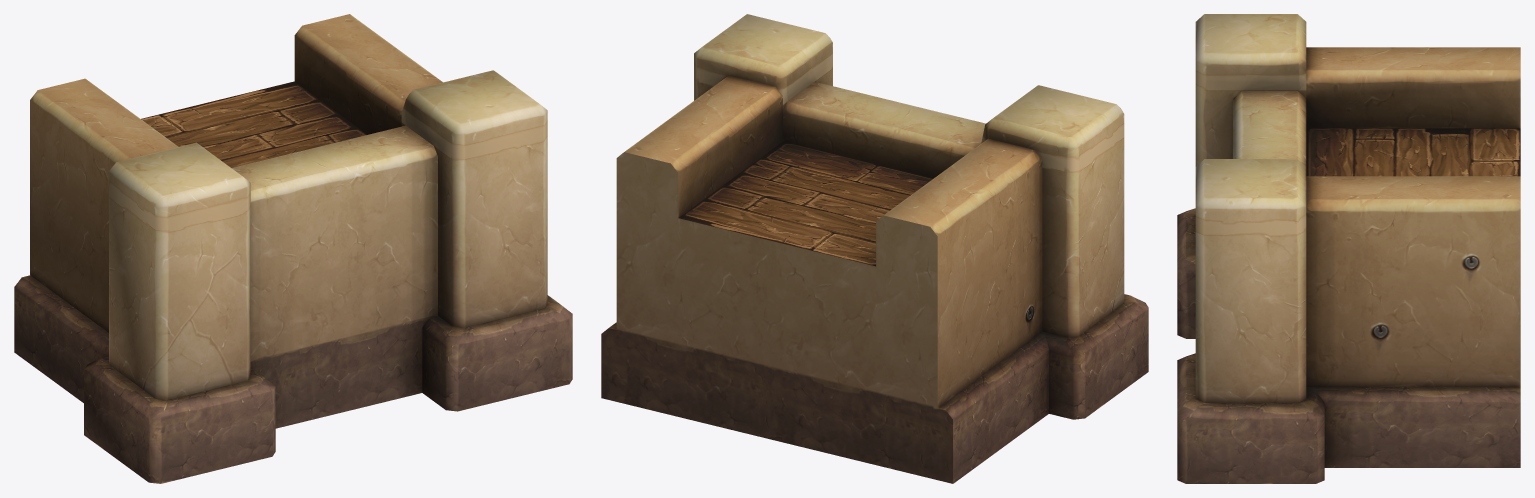
The model's file is DE_House_Mod_Part_07.fbx.
3 renders of one model, left to right at view 1: azimuth 30°, elevation 25°; view 2: azimuth 150°, elevation 25°; view 3: azimuth 270°, elevation 25°, orthographic. The views are drawn at different scales.
Visible parts, largest first — view 1: DE_House_Mod_Part_07; view 2: DE_House_Mod_Part_07; view 3: DE_House_Mod_Part_07.
Part boxes in pixels (x1=…): DE_House_Mod_Part_07: x1=14, y1=14, x2=572, y2=483; DE_House_Mod_Part_07: x1=601, y1=14, x2=1148, y2=483; DE_House_Mod_Part_07: x1=1177, y1=14, x2=1520, y2=483.
Size of the model in its own units: 6.75 by 4.17 by 4.73.
